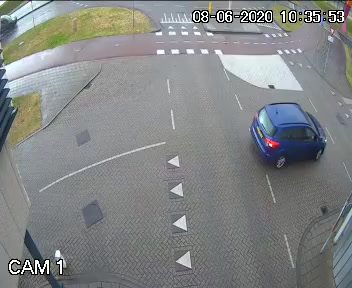car: (248, 96, 329, 172)
